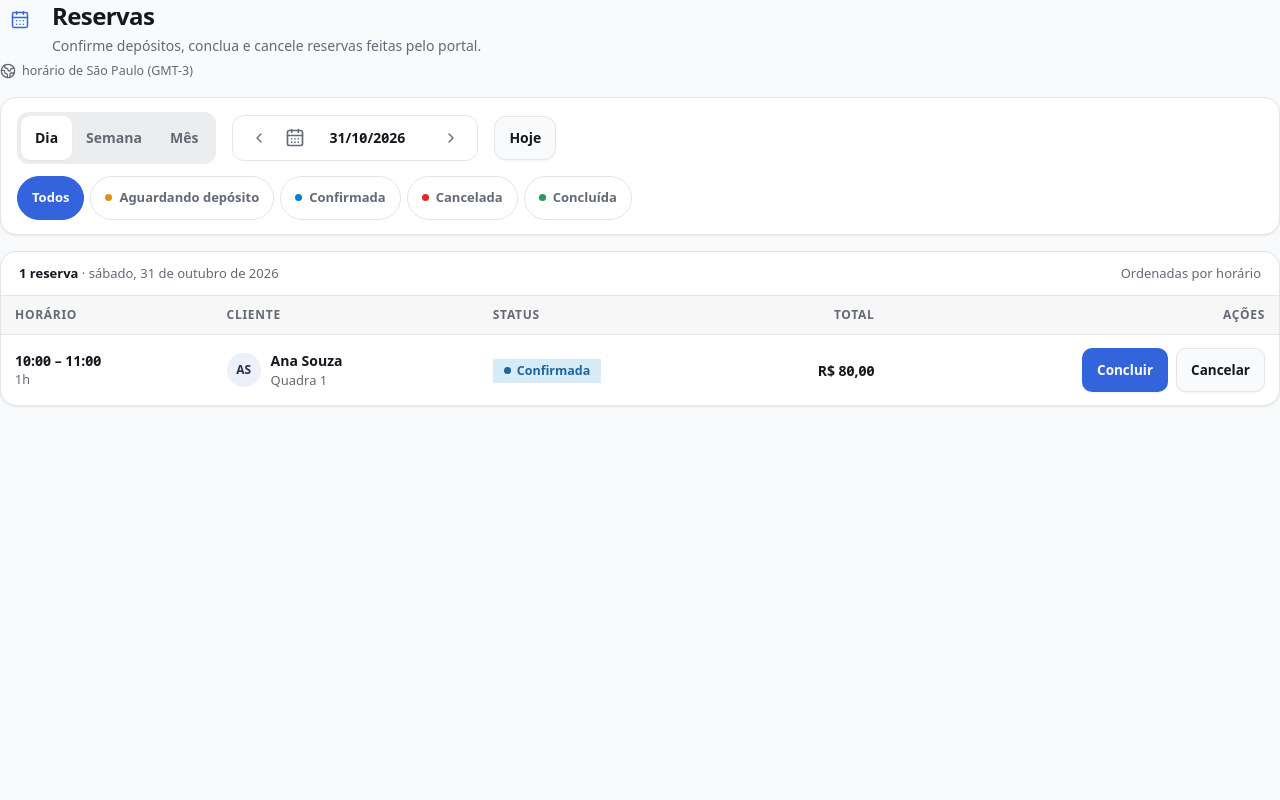
ReservationsPage Cancel confirmation › cancels the reservation only after the destructive action is confirmed
This screenshot has width=1280, height=800.
Expected: the text "Ana Souza" is shown, x1=271 y1=351 x2=342 y2=370
Click the button "Cancelar". click: (1220, 370)
box: x1=1176 y1=348 x2=1265 y2=392
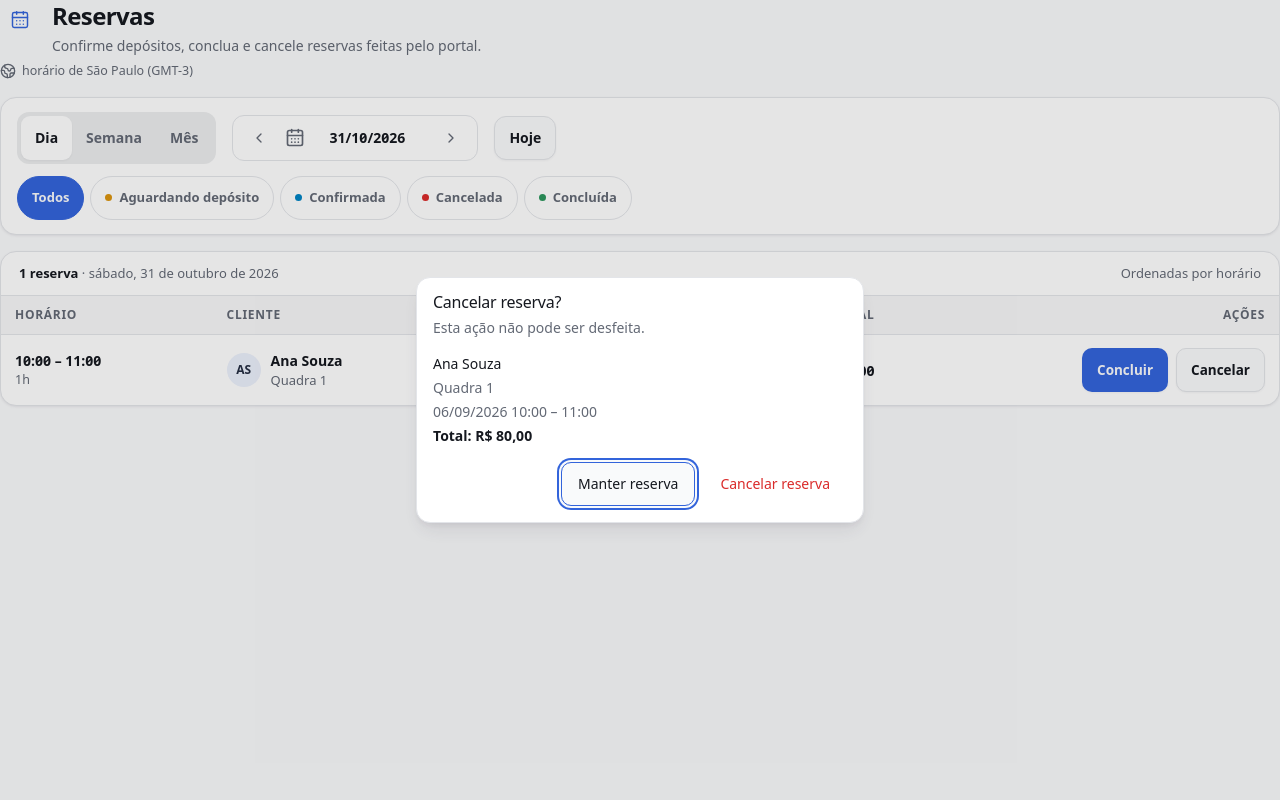
Now the dialog is shown, box x1=416 y1=277 x2=864 y2=523
Click the button "Cancelar reserva". click: (775, 484)
box: x1=703 y1=462 x2=847 y2=506
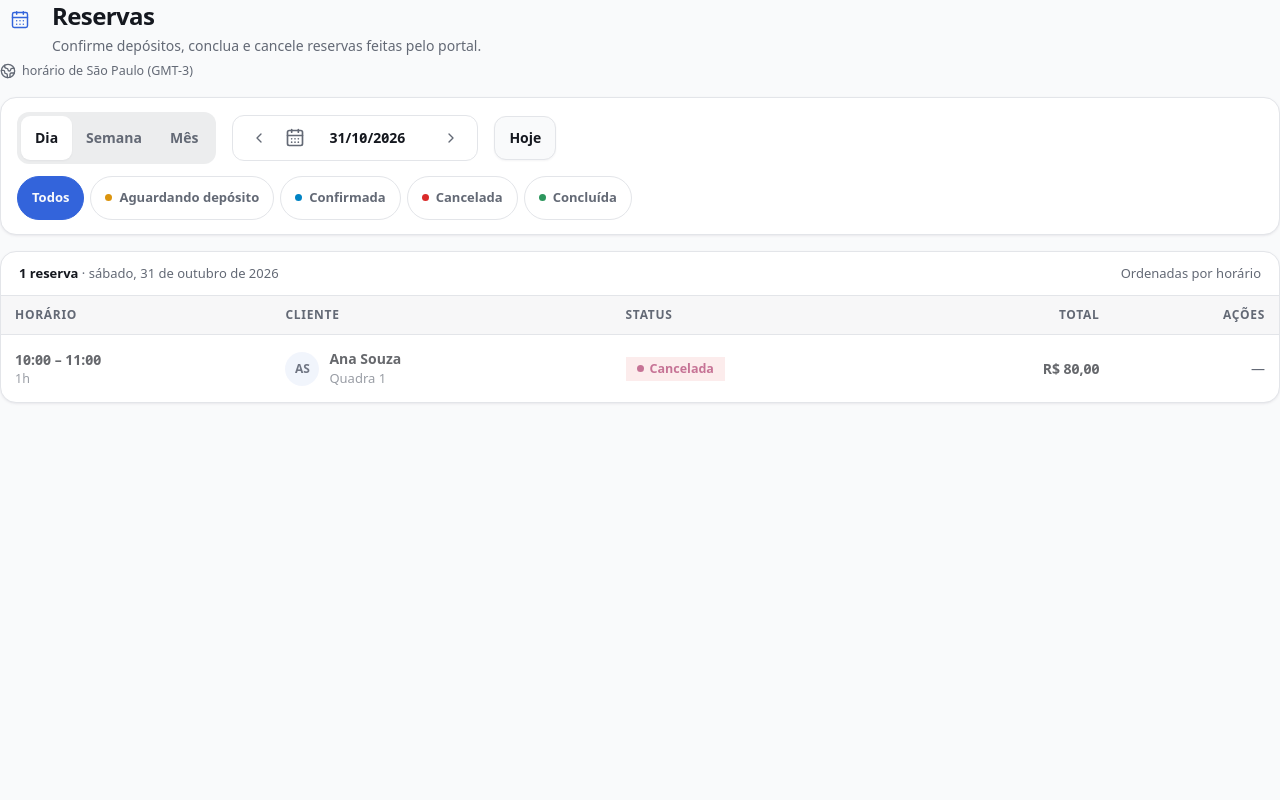
Now the dialog is gone
